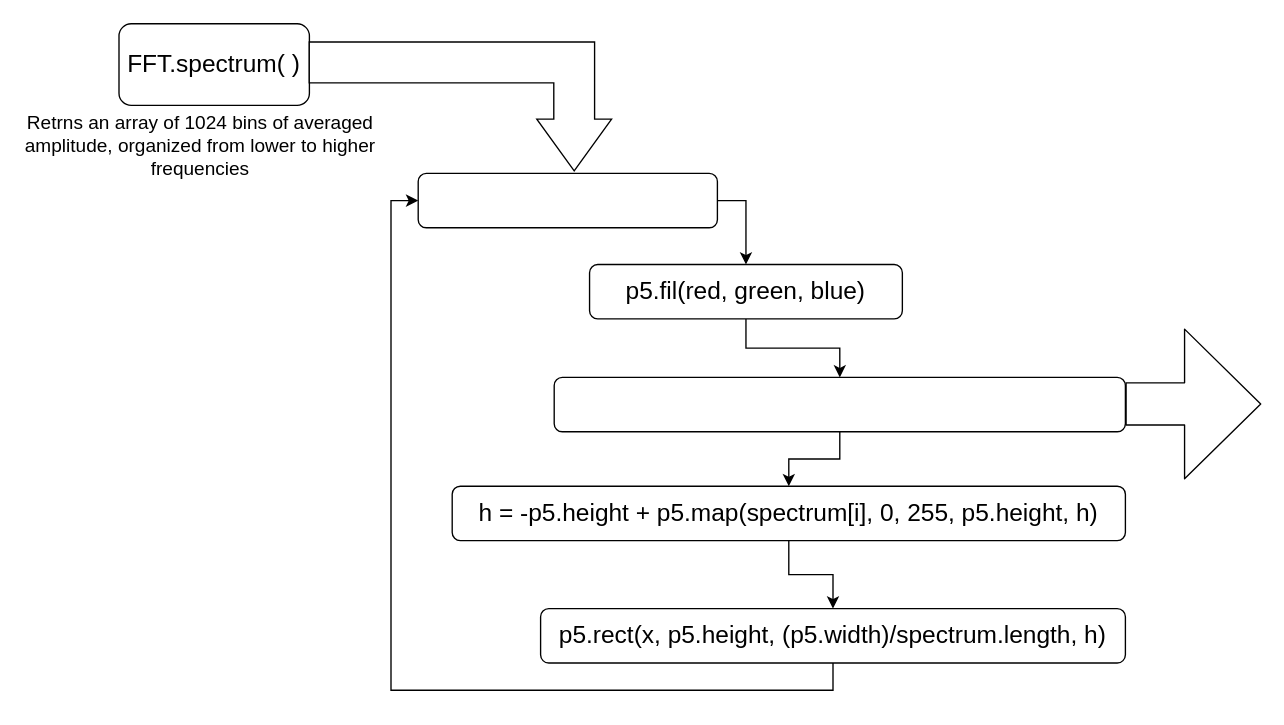
The diagram is 1284 pixels wide and 725 high, and some of its shapes have lost their labels. The shapes that lost their labels are listed below. From the top down, each one's box as (x1, y1, x2, y2) in pixels, then its label:
(417, 172, 717, 228): for bin in spectrum.length
(553, 376, 1125, 432): x = p5.map(i ,0, spectrum.length,0, canvas.width)
